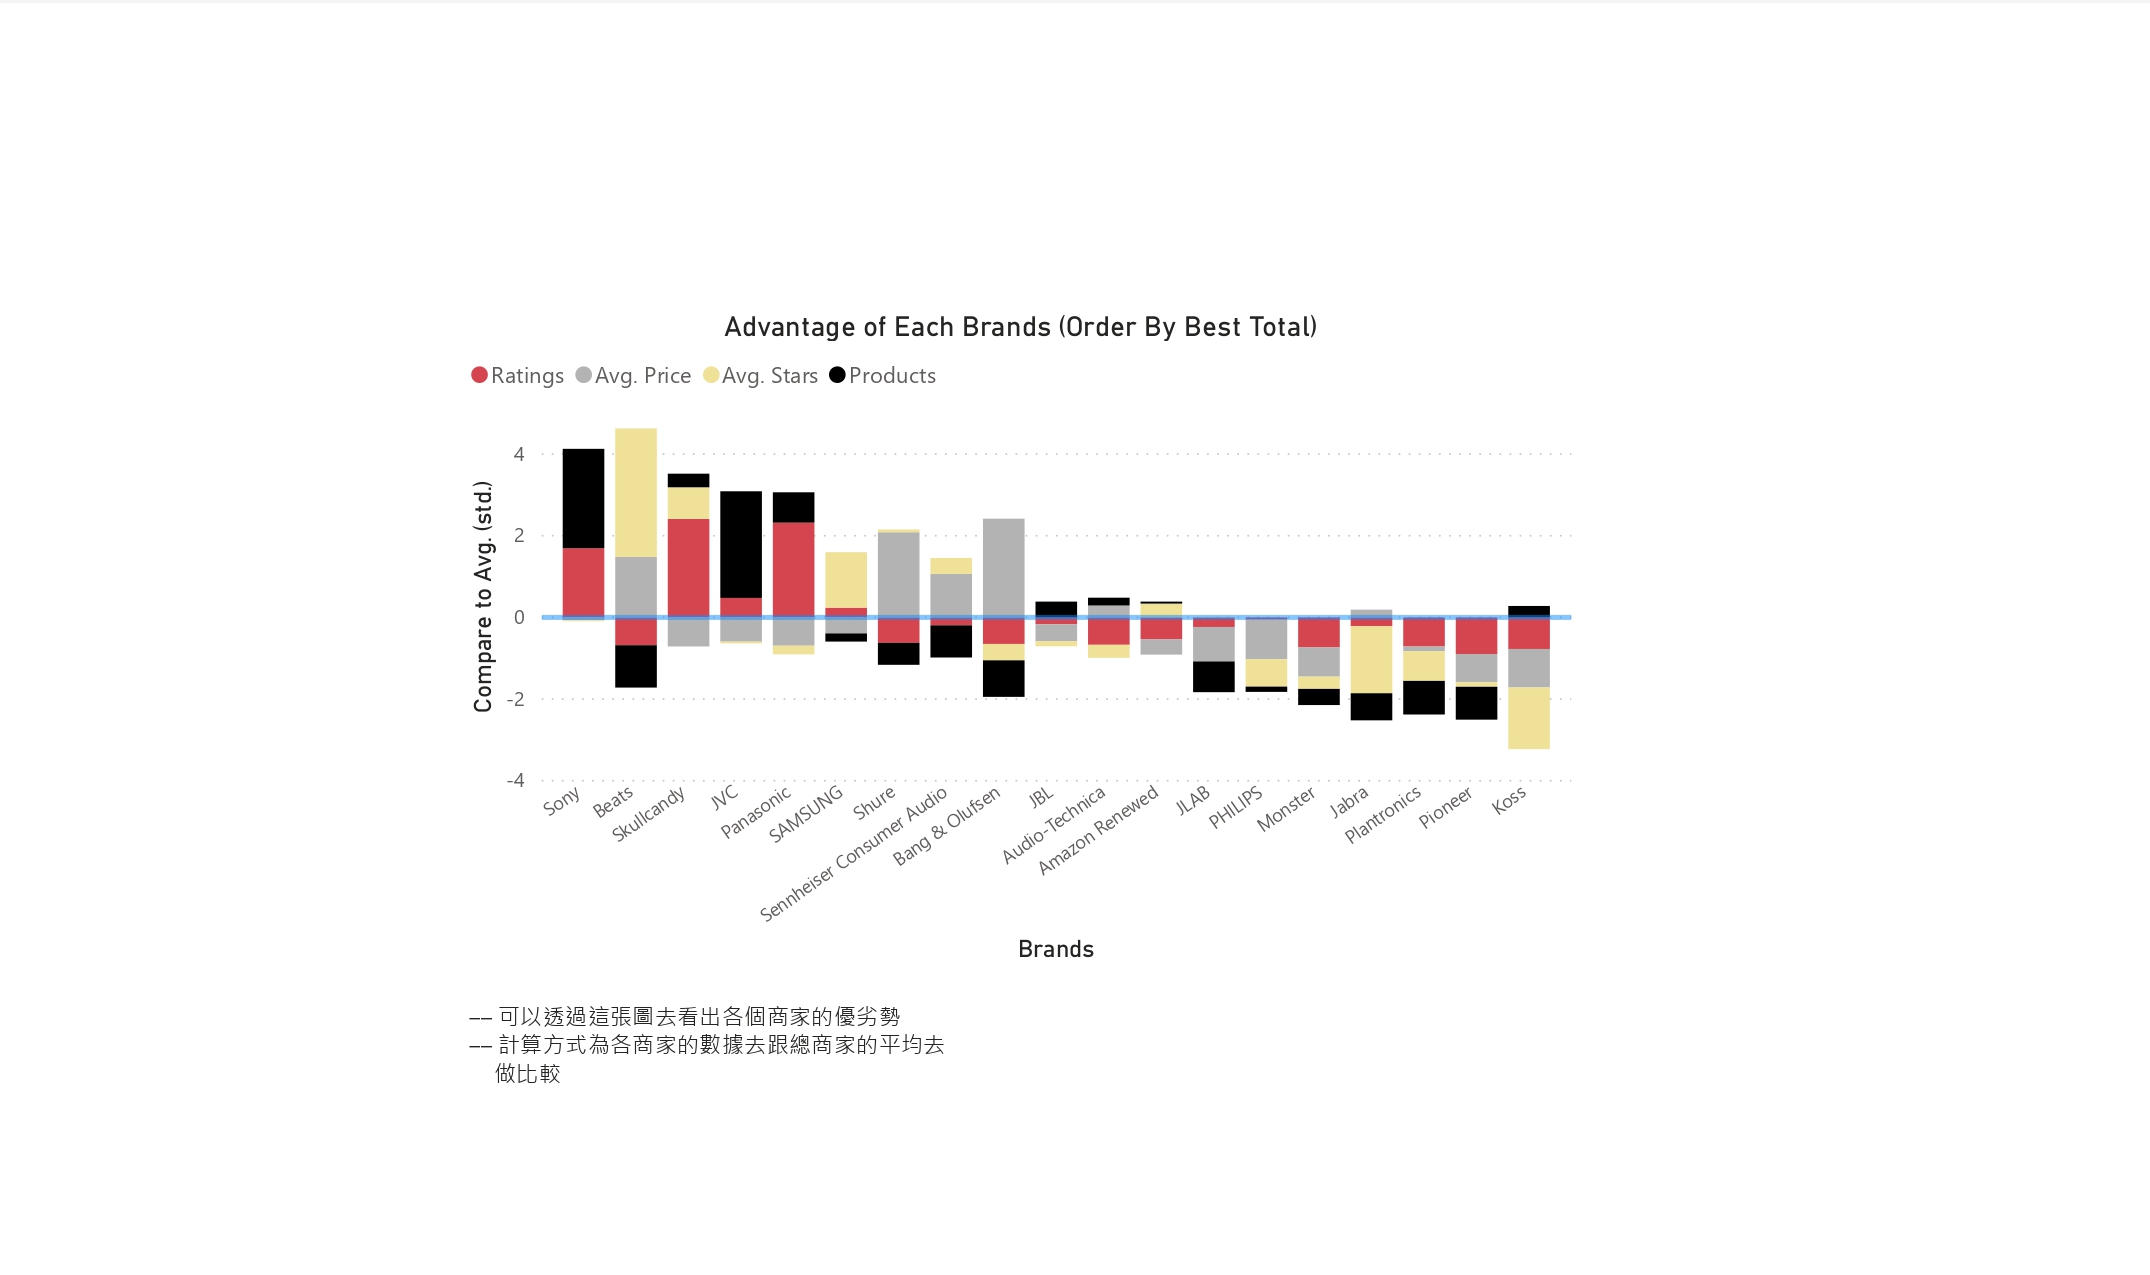

This screenshot's page, from the dashboard's own definition file:
{"tool":"powerbi","page":{"name":"Advantage of Each Brands","canvas":[1280,720],"ordinal":6},"visuals":[{"type":"columnChart","title":"Advantage of Each Brands (Order By Best Total)","fields":{"Category":["SS_Amazon Earbuds.Brands"],"Y":["Sum(SS_Amazon Earbuds.Ratings)","Avg(SS_Amazon Earbuds.Prices)","Avg(SS_Amazon Earbuds.Stars)","Sum(SS_Amazon Earbuds.Titles)"]},"box":[274.5,163.5,665.8,393.8],"z":0},{"type":"textbox","box":[274.5,570.7,299.5,149.3],"z":1}]}

Visuals, with their boxes on the page's 1280x720 design canvas (x1, y1, x2, y2). These are canvas units, not pixel positions in the 2150x1275 screenshot, which may show the page scaled, cropped or inside an application window:
"Advantage of Each Brands (Order By Best Total)" columnChart: pyautogui.locateOnScreen(274, 164, 940, 557)
textbox: pyautogui.locateOnScreen(274, 571, 574, 720)
